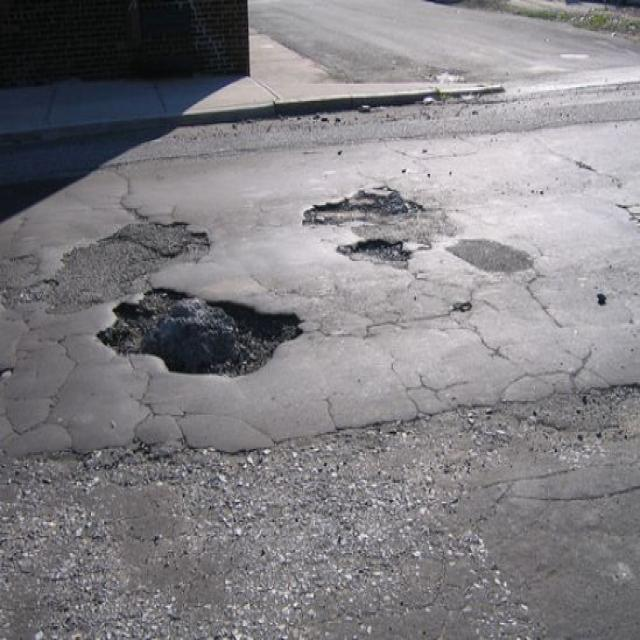Pothole: (96, 281, 308, 381), (295, 177, 425, 230), (338, 230, 414, 269)
